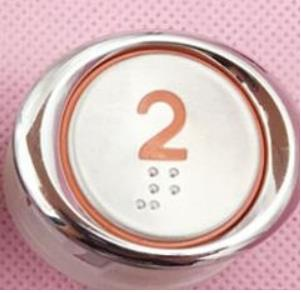Braille: (169, 167, 192, 211), (138, 166, 159, 211)
